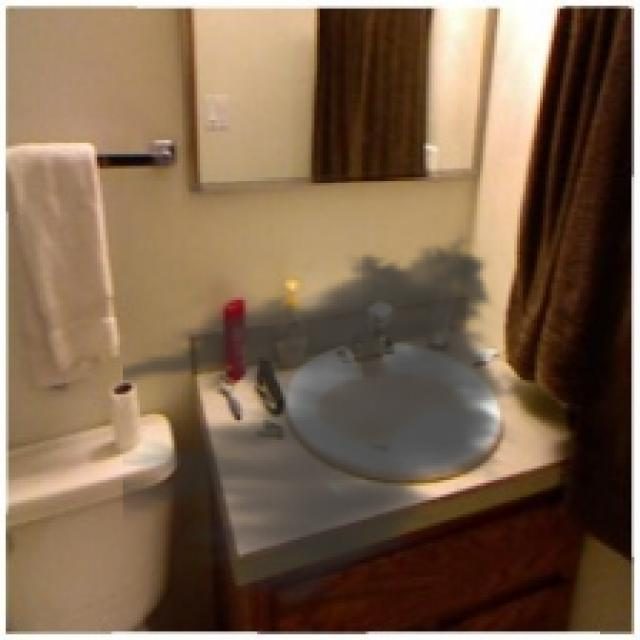smoke: (123, 226, 526, 617)
